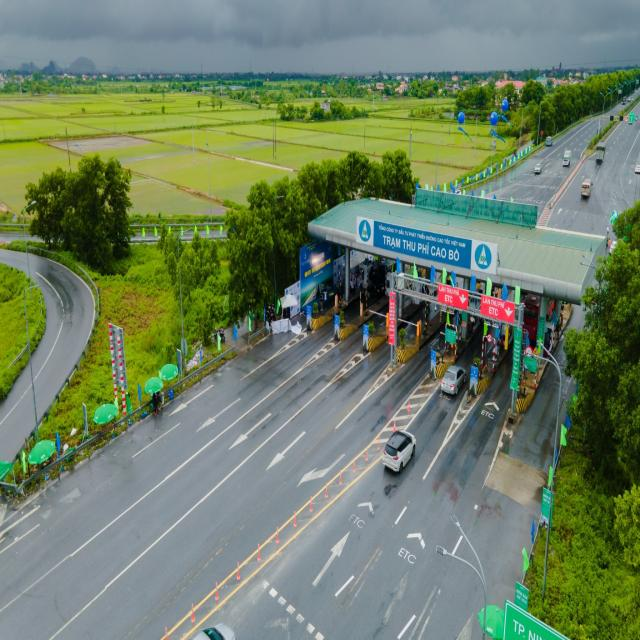ben: (594, 139, 607, 167), (561, 146, 573, 172)
car: (381, 422, 418, 478), (438, 361, 470, 398), (580, 175, 594, 202), (532, 159, 544, 179), (544, 131, 556, 150), (633, 159, 640, 179)
